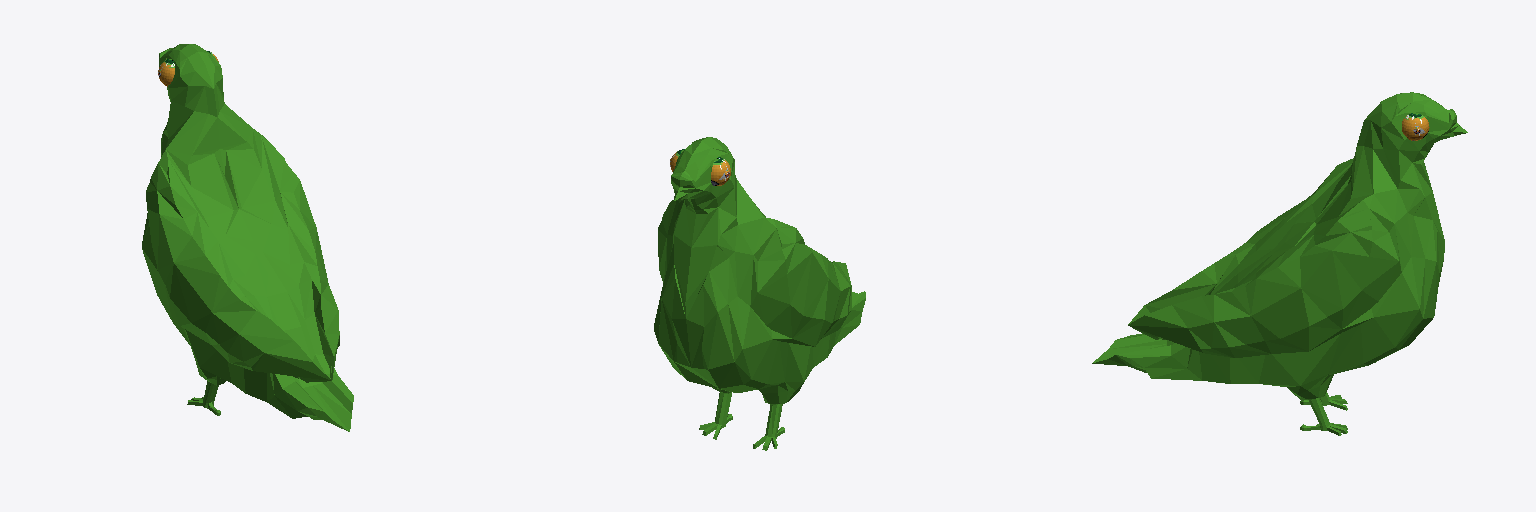
3 views of the same model, side by side, from view 1: azimuth 30°, elevation 25°; view 2: azimuth 150°, elevation 25°; view 3: azimuth 270°, elevation 25° (orthographic).
Parts seen in each view (by area): view 1: Plane_Plane.001; view 2: Plane_Plane.001; view 3: Plane_Plane.001.
Boxes of the visible parts, box(x1,y1,x2,y2) form: Plane_Plane.001: box(142, 44, 353, 431); Plane_Plane.001: box(654, 137, 865, 450); Plane_Plane.001: box(1092, 92, 1467, 435).
Bounding box in the file's own units: 0.367 × 0.8033 × 0.8377.
Materials: 1 (1 with a texture image).